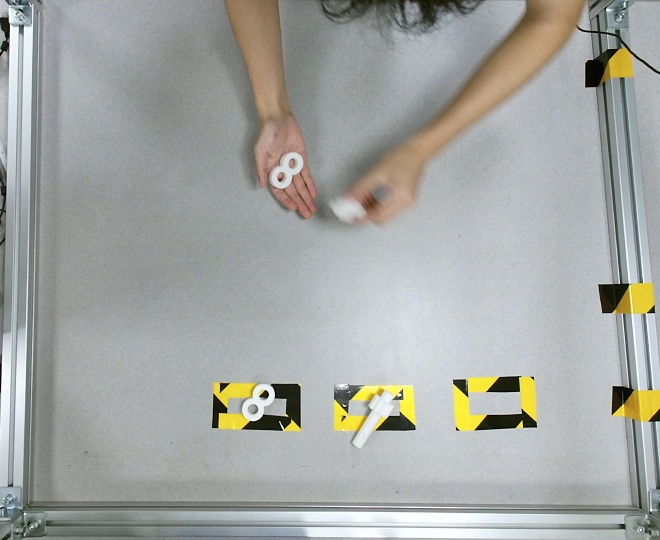stage_1: (269, 152, 303, 187)
